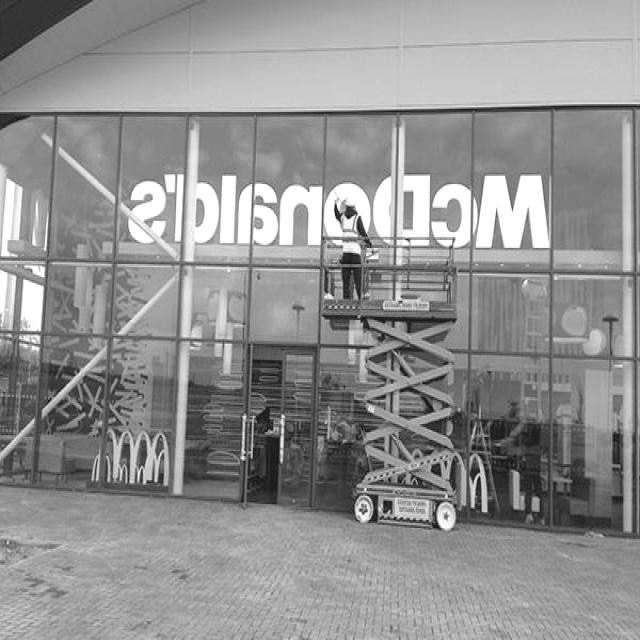head_helmet: (346, 196, 355, 207)
person: (334, 192, 365, 302)
vest: (340, 211, 365, 256)
